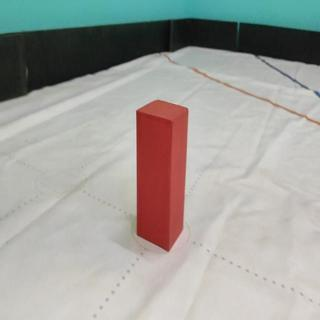redbox: (135, 98, 189, 252)
